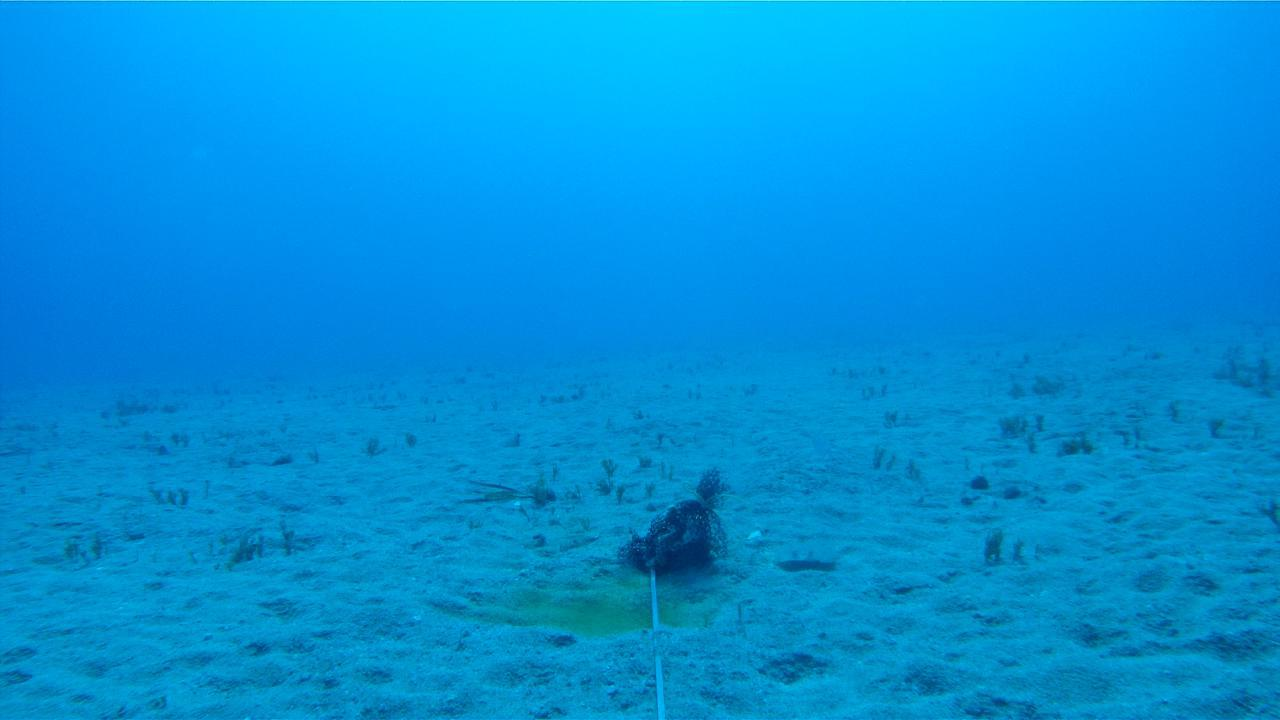bothus: (766, 536, 841, 570)
